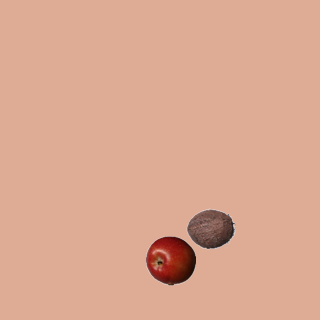Apple Braeburn: (145, 235, 195, 285)
Cocos: (185, 203, 235, 253)
